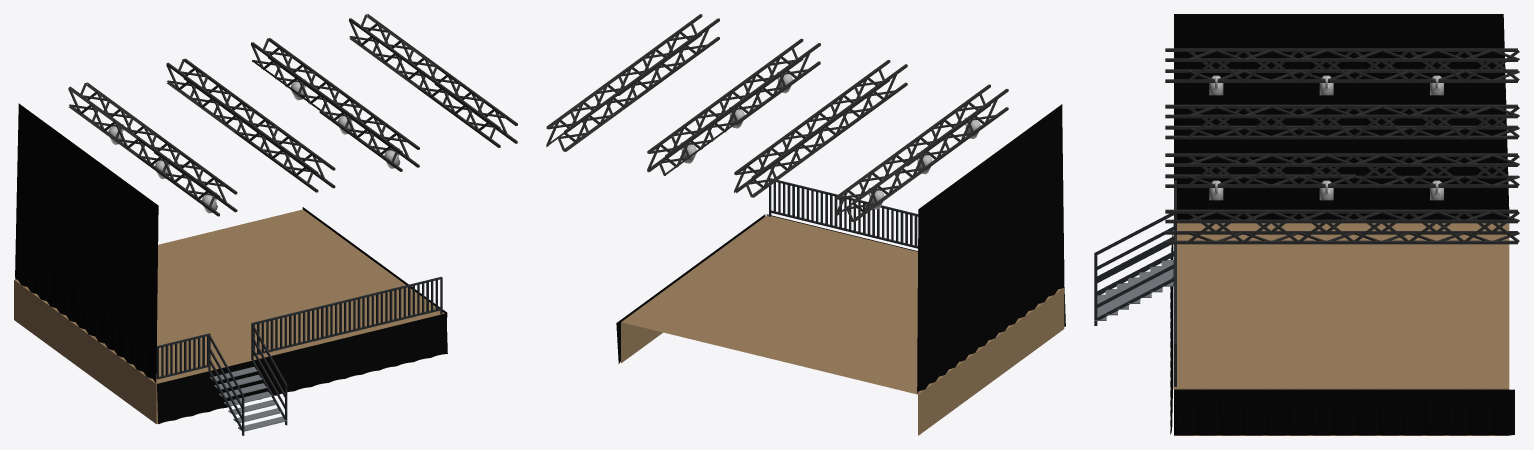
The model's file is StageCabaret.fbx.
3 renders of one model, left to right at view 1: azimuth 30°, elevation 25°; view 2: azimuth 150°, elevation 25°; view 3: azimuth 270°, elevation 25°, orthographic. The views are drawn at different scales.
Parts seen in each view (by area): view 1: StageCabaret; view 2: StageCabaret; view 3: StageCabaret.
Part boxes in pixels (left/top/right/bottom): StageCabaret: left=14, top=14, right=517, bottom=435; StageCabaret: left=546, top=14, right=1065, bottom=435; StageCabaret: left=1094, top=14, right=1519, bottom=435.
Bounding box in the file's own units: 13.05 × 7.6 × 11.39.
1 material, 1 textured.
